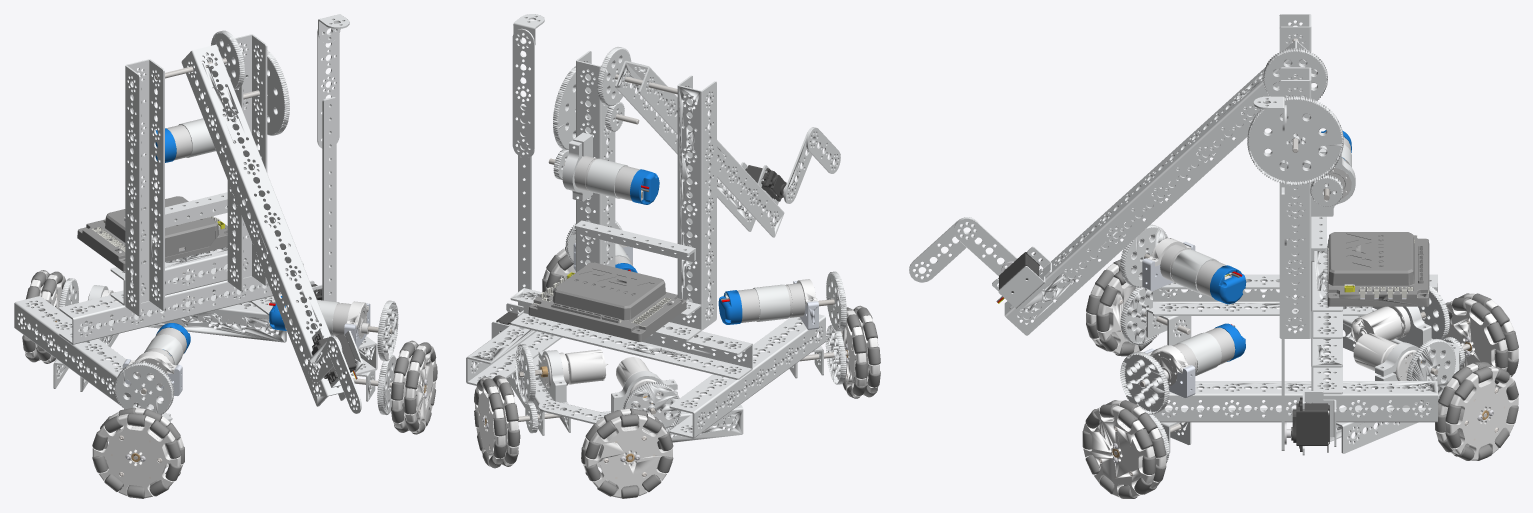
Rendered from sez1.glb.
3 renders of one model, left to right at view 1: azimuth 30°, elevation 25°; view 2: azimuth 150°, elevation 25°; view 3: azimuth 270°, elevation 25°, orthographic. The views are drawn at different scales.
Parts seen in each view (by area): view 1: Body1.013; view 2: Body1.013; view 3: Body1.013.
Boxes of the visible parts, x1=… form: Body1.013: x1=14, y1=14, x2=437, y2=498; Body1.013: x1=466, y1=14, x2=880, y2=498; Body1.013: x1=909, y1=14, x2=1518, y2=498.
Size of the model in its own units: 42.72 by 43.45 by 61.67.
